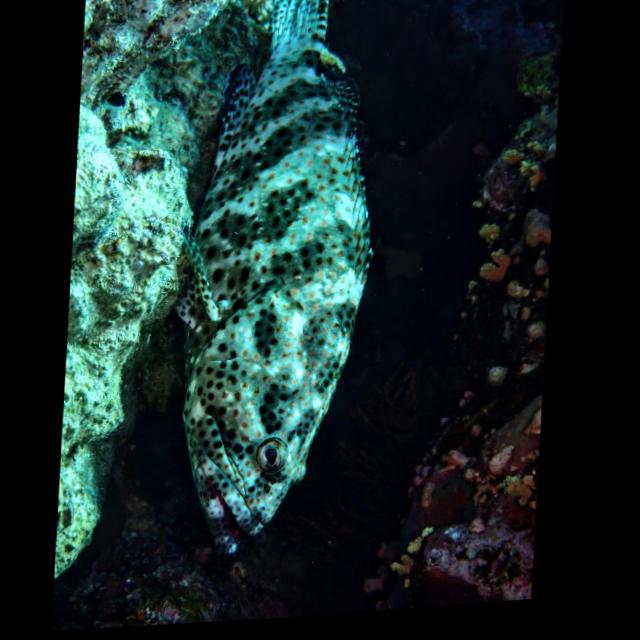Groupers: (154, 0, 385, 568)
